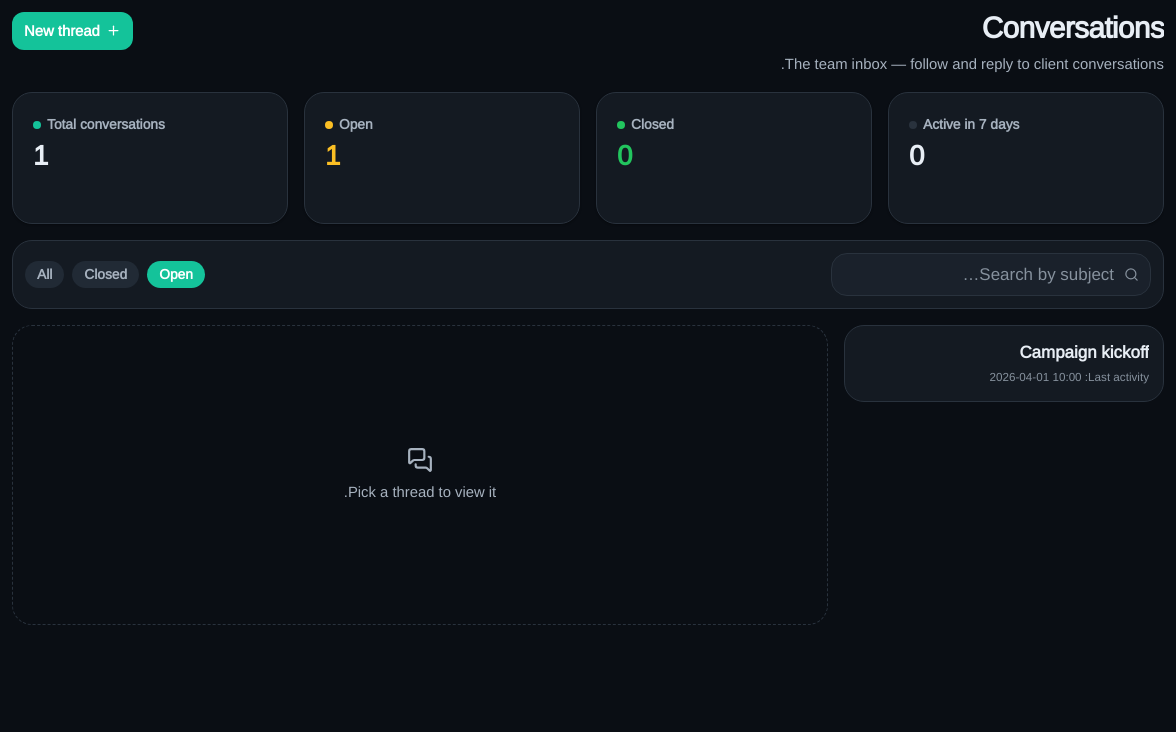
ThreadsPage › opens a thread, shows its messages, unread badge and a team reply box
The width and height of the screenshot is (1176, 732).
What coordinates should you click on to do the following:
click the text "Campaign kickoff"
I would click on:
 (1084, 353)
Its box is [1019,340,1149,366].
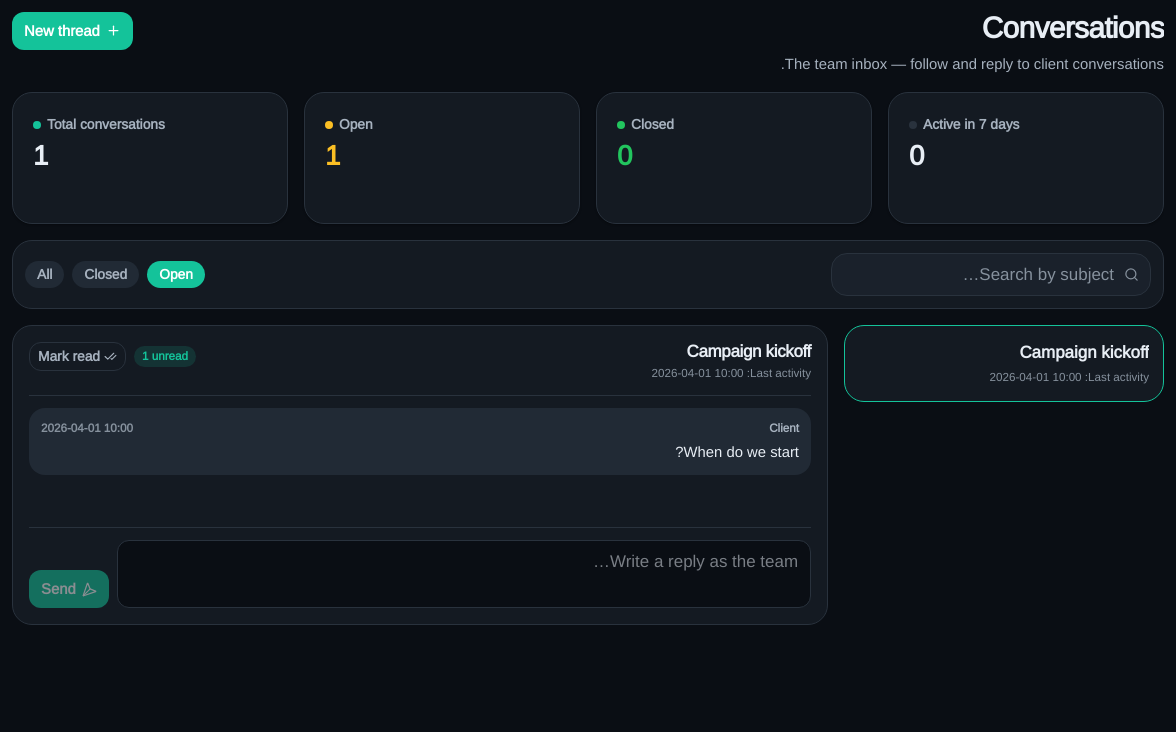
Now the text "When do we start?" is shown, box [675,443,799,460]
Now the text "1 unread" is shown, box [134,346,196,367]
Now the text box with placeholder "Write a reply as the team…" is shown, box [117,540,811,608]
